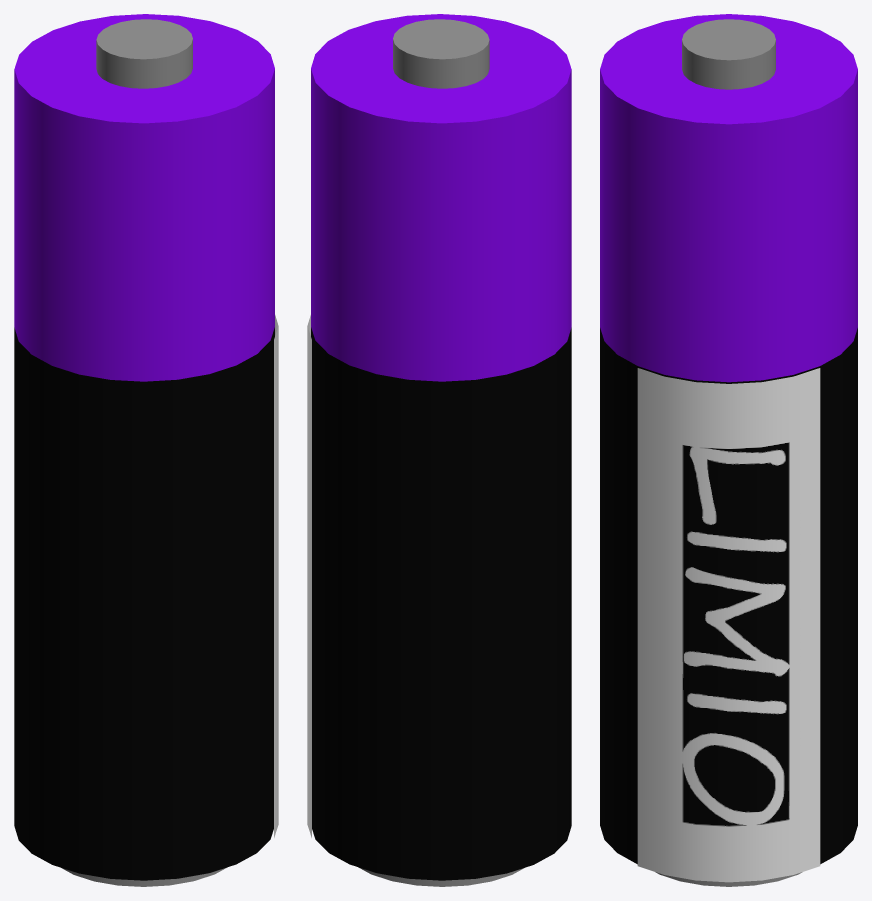
Rendered from Battery.fbx.
3 renders of one model, left to right at view 1: azimuth 30°, elevation 25°; view 2: azimuth 150°, elevation 25°; view 3: azimuth 270°, elevation 25°, orthographic.
Visible parts, largest first — view 1: Cylinder, Cylinder.003; view 2: Cylinder, Cylinder.003; view 3: Cylinder, Cylinder.003.
Boxes of the visible parts, <box> form: Cylinder: <box>14,14,274,886</box>; Cylinder.003: <box>274,315,278,837</box>; Cylinder: <box>311,14,571,886</box>; Cylinder.003: <box>307,315,311,837</box>; Cylinder: <box>600,14,857,886</box>; Cylinder.003: <box>637,368,820,882</box>.
Bounding box in the file's own units: 59.45 × 199 × 57.83.
